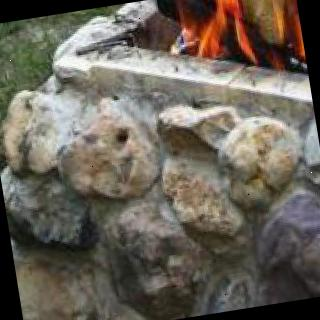fire: (180, 0, 310, 103)
